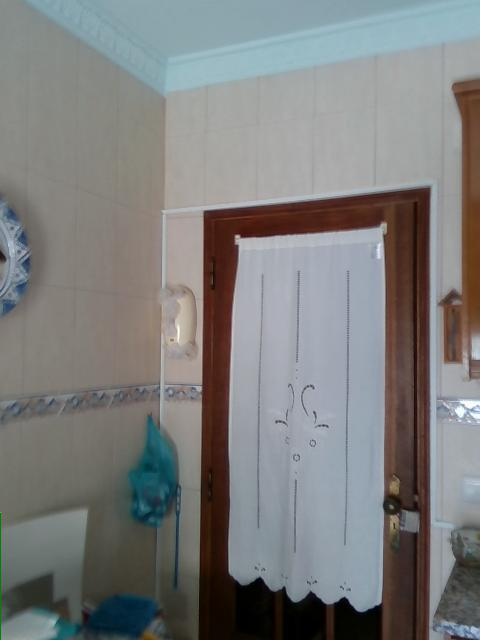closed_door: (201, 184, 431, 638)
